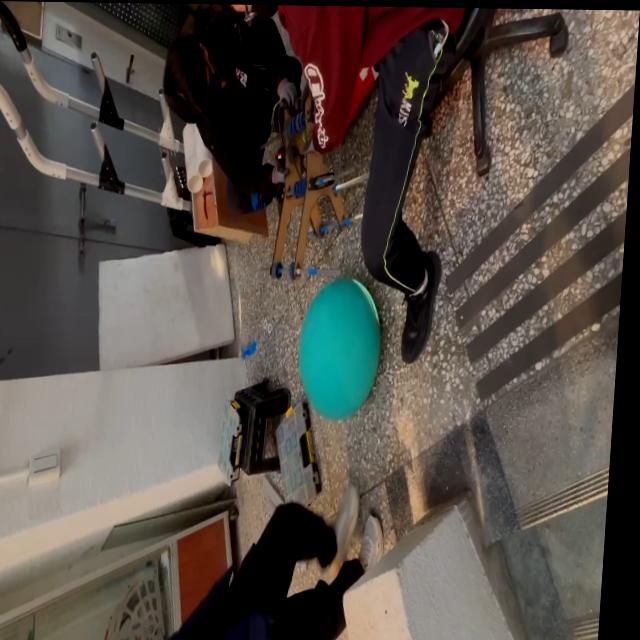ALGAE: (293, 275, 386, 422)
